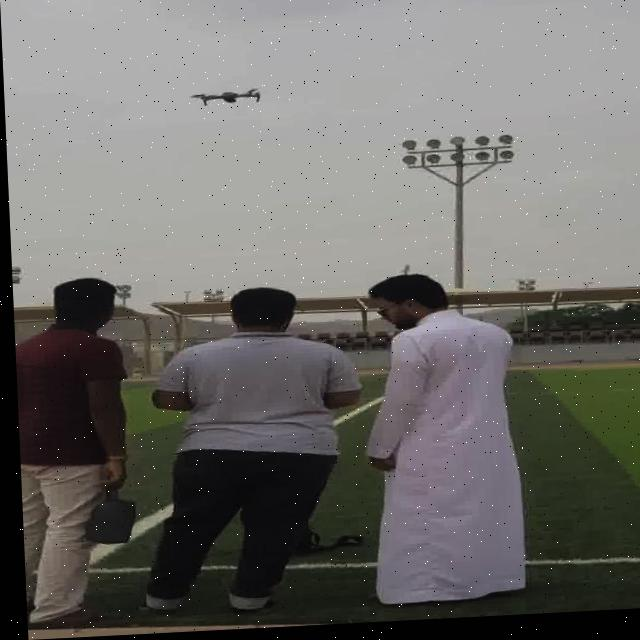drone: (185, 81, 271, 113)
